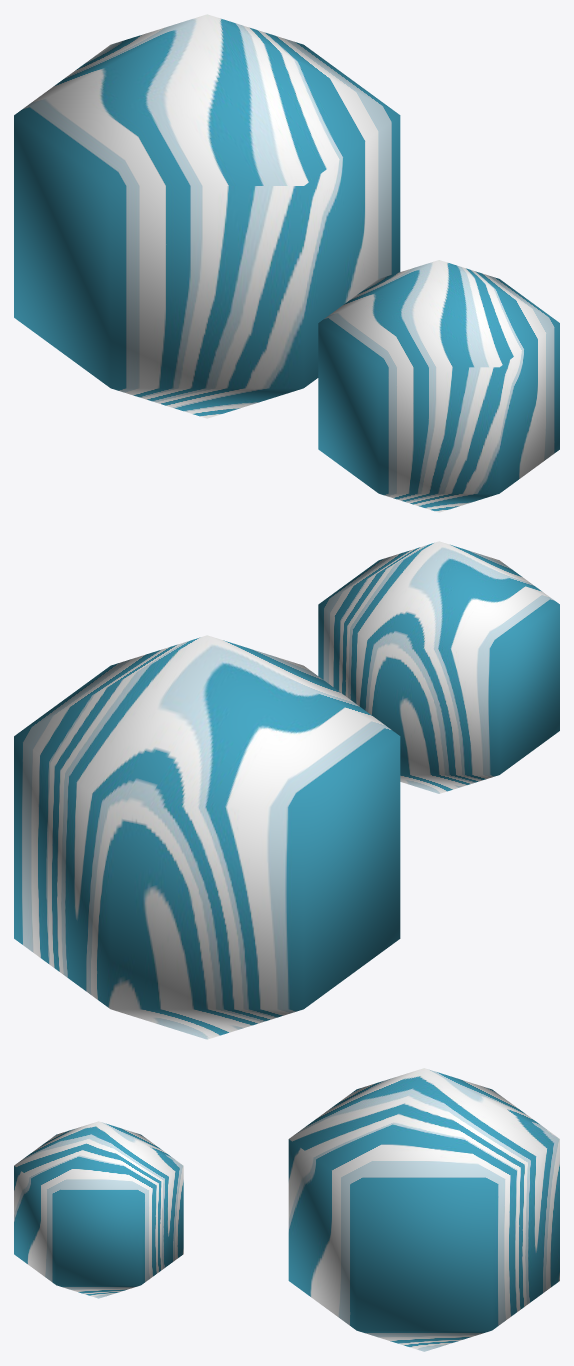
File: blueberryfreezemarble_selection.DAE
3 renders of one model, top to bottom at view 1: azimuth 30°, elevation 25°; view 2: azimuth 150°, elevation 25°; view 3: azimuth 270°, elevation 25°, orthographic. The views are drawn at different scales.
Parts seen in each view (by area): view 1: Shooter_I, Standard_I; view 2: Shooter_I, Standard_I; view 3: Shooter_I, Standard_I.
Boxes of the visible parts, x1,y1,x2,y2 form: Shooter_I: [14, 14, 400, 418]; Standard_I: [318, 260, 559, 512]; Shooter_I: [14, 635, 400, 1039]; Standard_I: [318, 541, 559, 793]; Shooter_I: [288, 1068, 559, 1351]; Standard_I: [14, 1121, 183, 1298].
Bounding box in the file's own units: 0.0381 × 0.0886 × 0.0508.
1 material, 1 textured.
